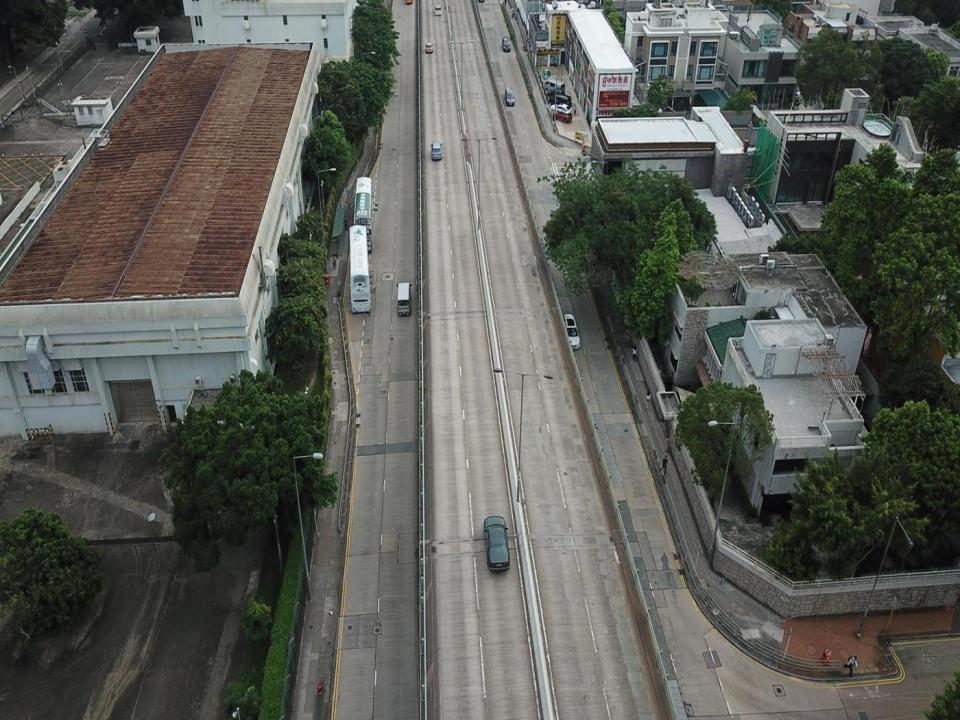bus: (348, 224, 373, 314), (352, 177, 376, 253)
car: (482, 516, 512, 572), (551, 102, 573, 115), (430, 141, 443, 161), (552, 110, 572, 123), (546, 88, 564, 99), (502, 33, 511, 53), (425, 41, 432, 54), (434, 4, 442, 14)
van: (563, 313, 579, 351), (398, 280, 411, 319), (542, 76, 564, 92), (547, 95, 573, 108), (504, 85, 514, 103)
